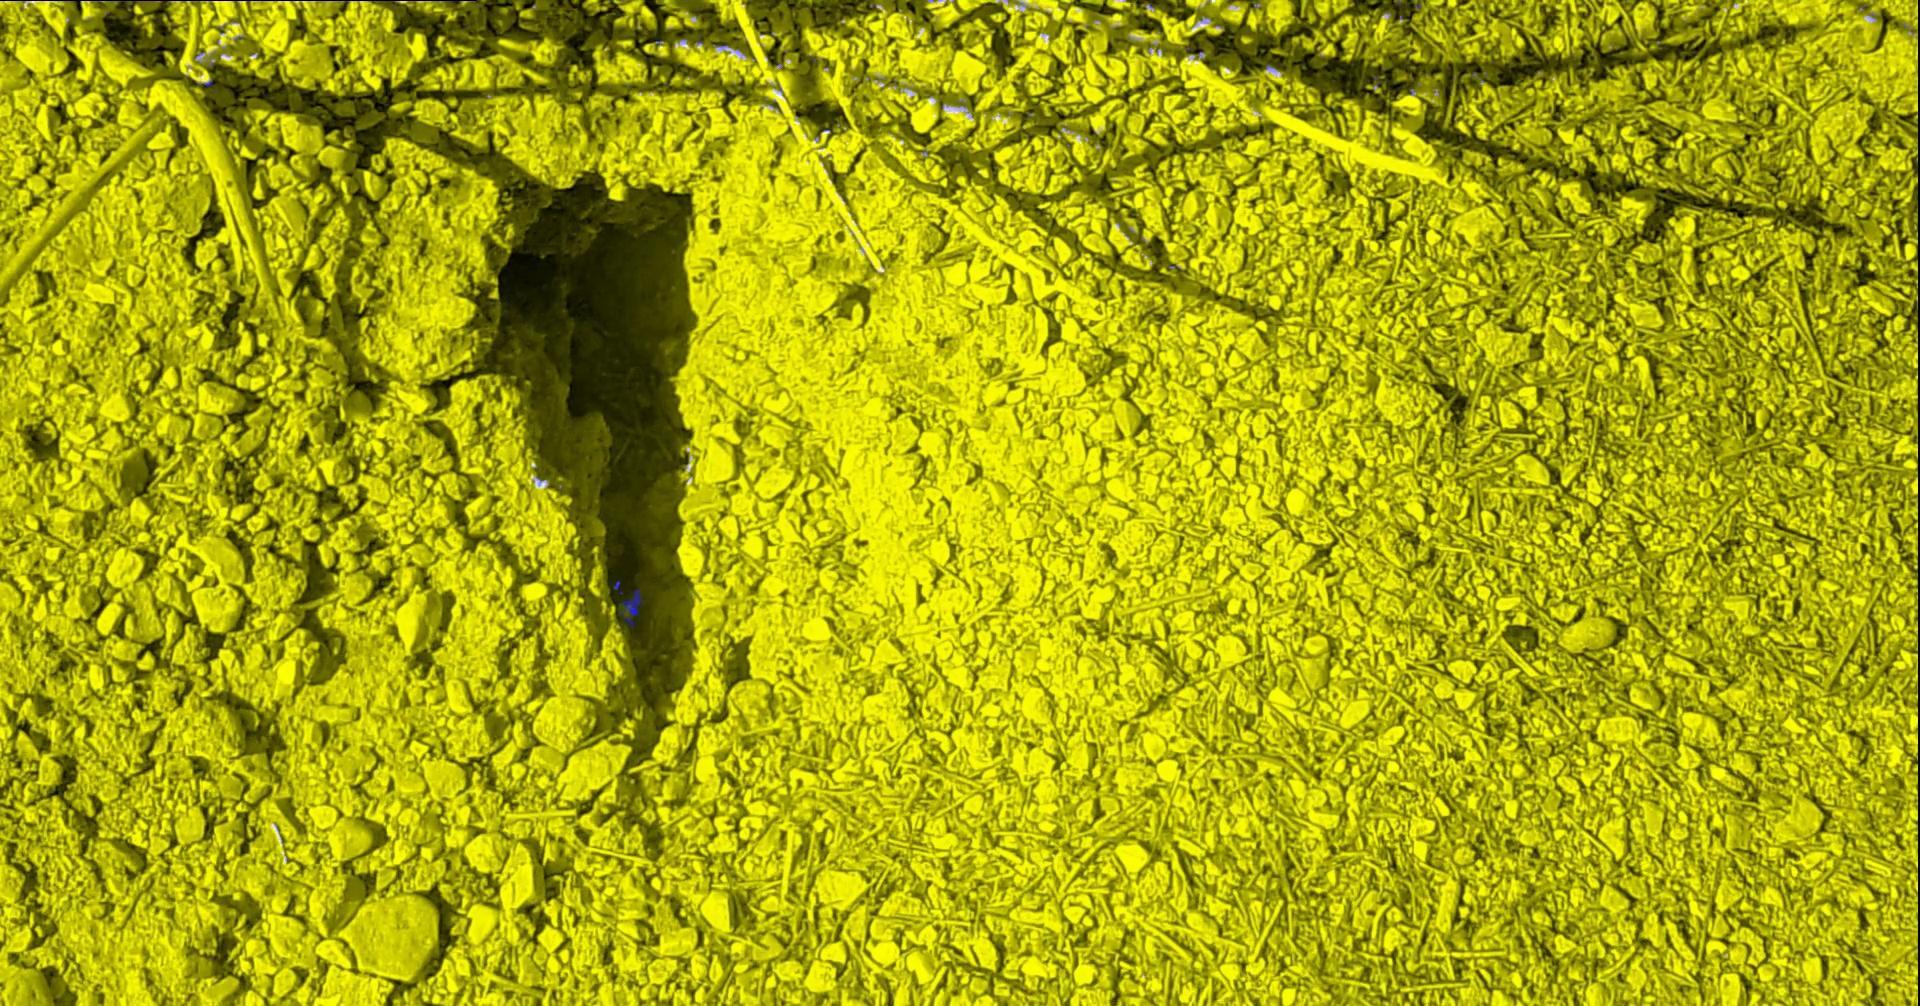ant: (618, 588, 641, 626)
